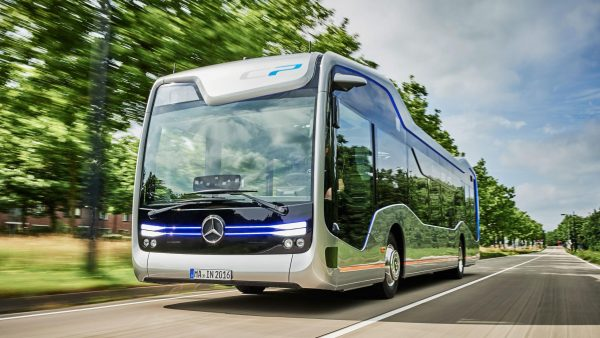bus: (131, 50, 481, 296)
